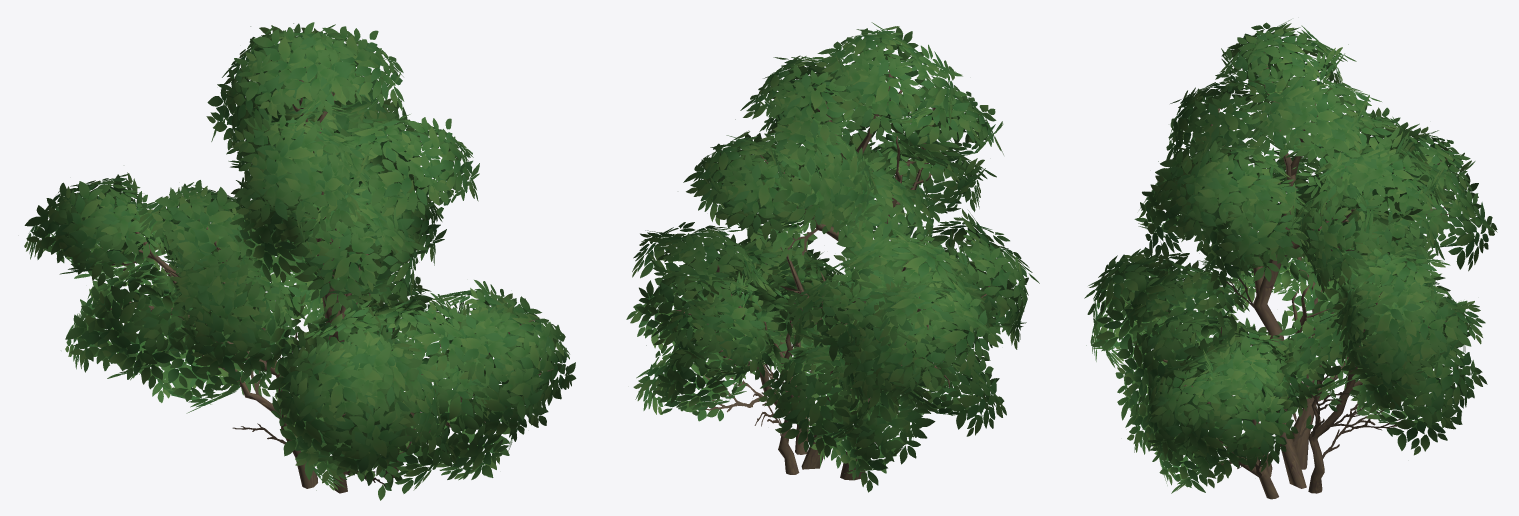
File: SM_FW01_Bush_01.fbx
The picture shows the model from 3 angles, left to right: view 1: azimuth 30°, elevation 25°; view 2: azimuth 150°, elevation 25°; view 3: azimuth 270°, elevation 25°; orthographic projection. The views are drawn at different scales.
Visible parts, largest first — view 1: SM_FW01_Bush_01_LOD0; view 2: SM_FW01_Bush_01_LOD0; view 3: SM_FW01_Bush_01_LOD0.
Part boxes in pixels (x1,y1,x2,y2): SM_FW01_Bush_01_LOD0: (24,22,576,500); SM_FW01_Bush_01_LOD0: (626,22,1039,492); SM_FW01_Bush_01_LOD0: (1084,19,1497,499).
Size of what is drawn, in the model's own units: 3.69 by 3.9 by 3.44.
